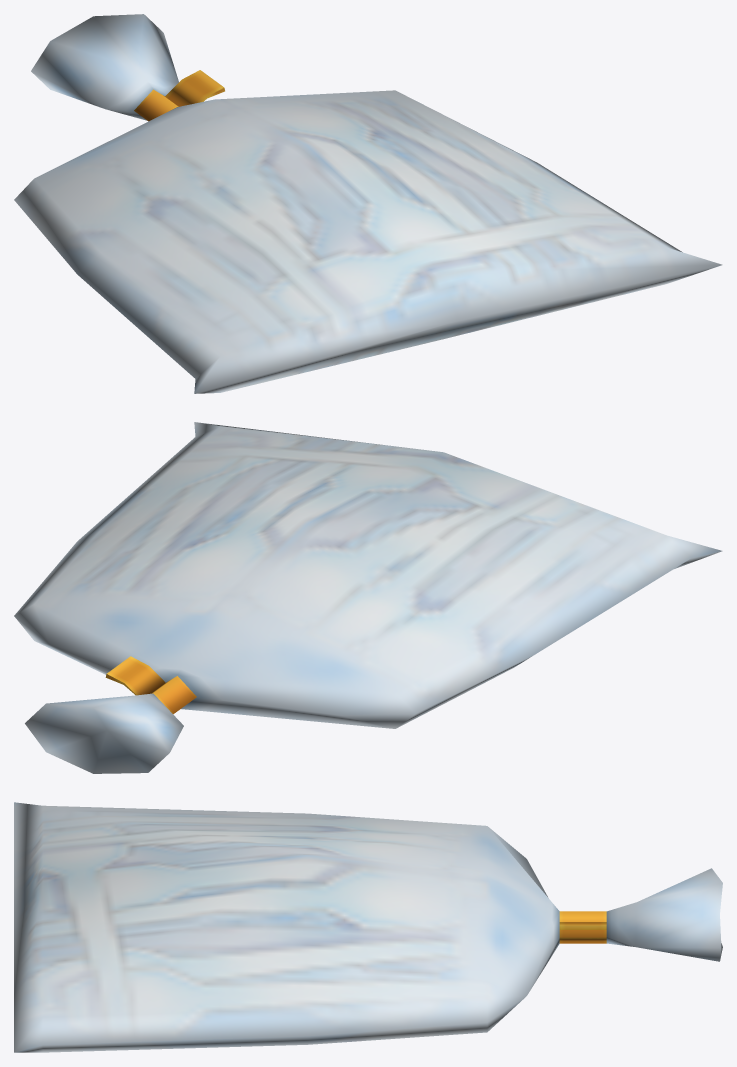
Rendered from jsf_PlasticSpoon_01_Set.fbx.
3 renders of one model, top to bottom at view 1: azimuth 30°, elevation 25°; view 2: azimuth 150°, elevation 25°; view 3: azimuth 270°, elevation 25°, orthographic. The views are drawn at different scales.
Parts seen in each view (by area): view 1: jsf_PlasticSpoon_01_Set; view 2: jsf_PlasticSpoon_01_Set; view 3: jsf_PlasticSpoon_01_Set.
Boxes of the visible parts, bbox=[...] form: jsf_PlasticSpoon_01_Set: bbox=[14, 14, 722, 393]; jsf_PlasticSpoon_01_Set: bbox=[14, 422, 722, 773]; jsf_PlasticSpoon_01_Set: bbox=[14, 802, 722, 1052].
Size of the model in its own units: 13.03 by 2.35 by 15.58.
